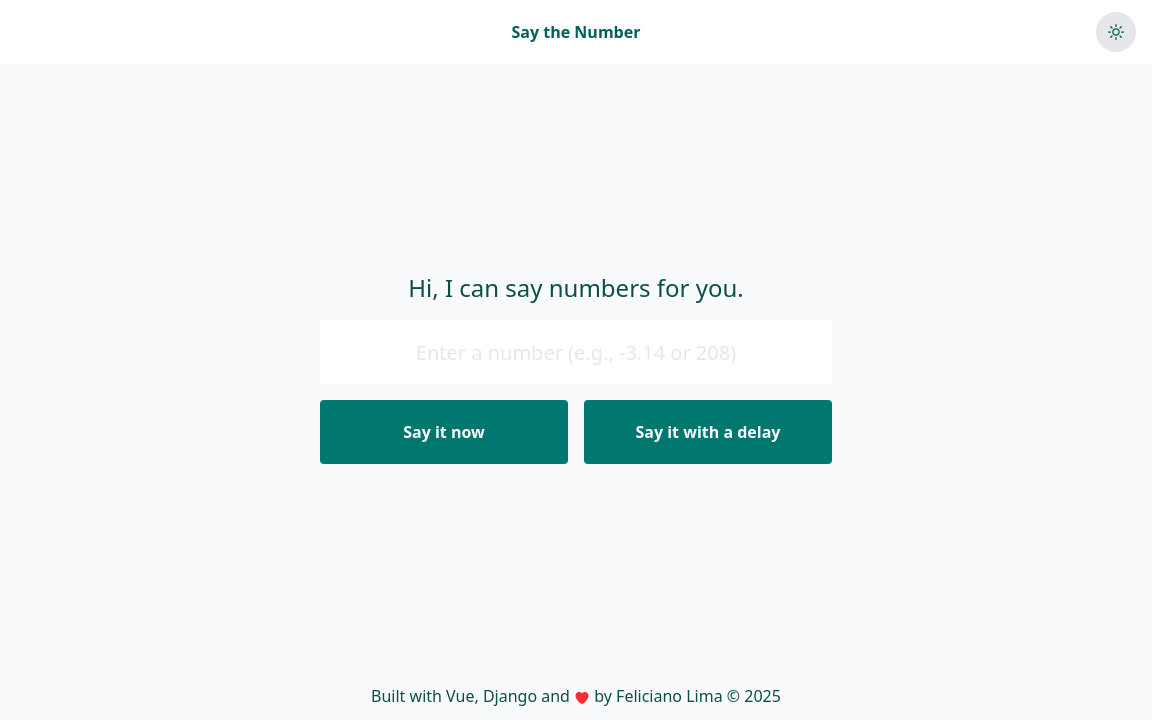
Say The Number Application › "Say it now" button › should show error when empty input
What coordinates should you click on to do the following:
click the button "Say it now"
I would click on:
 (444, 432)
Its box is x1=320 y1=400 x2=568 y2=464.
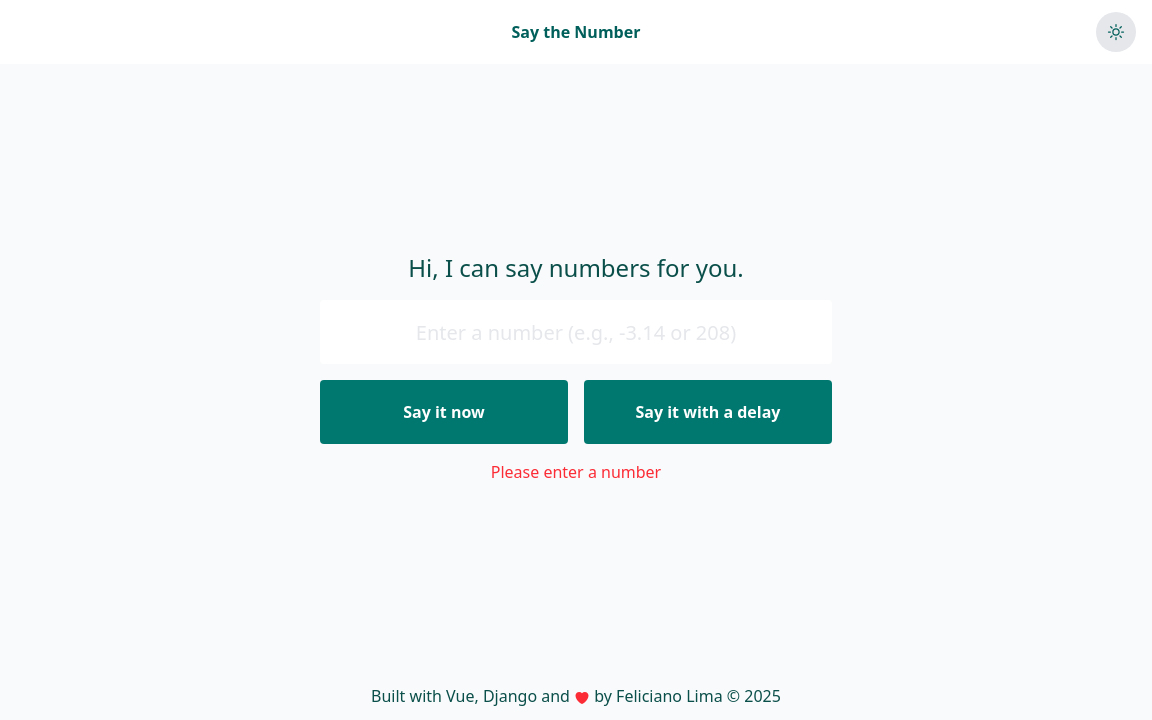
Expected: the text "Please enter a number" is shown, x1=491 y1=460 x2=661 y2=484
